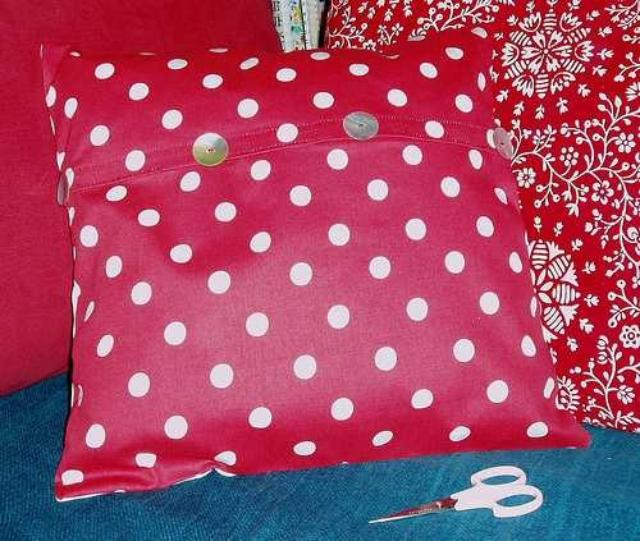pillow: (37, 30, 591, 502), (322, 1, 638, 434)
